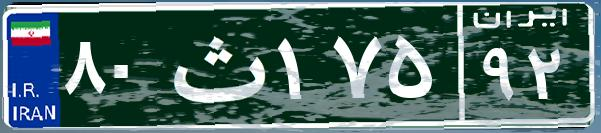0: (110, 28, 158, 105)
1: (273, 28, 330, 110)
2: (525, 38, 570, 115)
5: (385, 28, 445, 110)
7: (330, 28, 385, 110)
8: (57, 26, 110, 107)
9: (475, 38, 525, 113)
ث: (158, 15, 273, 115)
